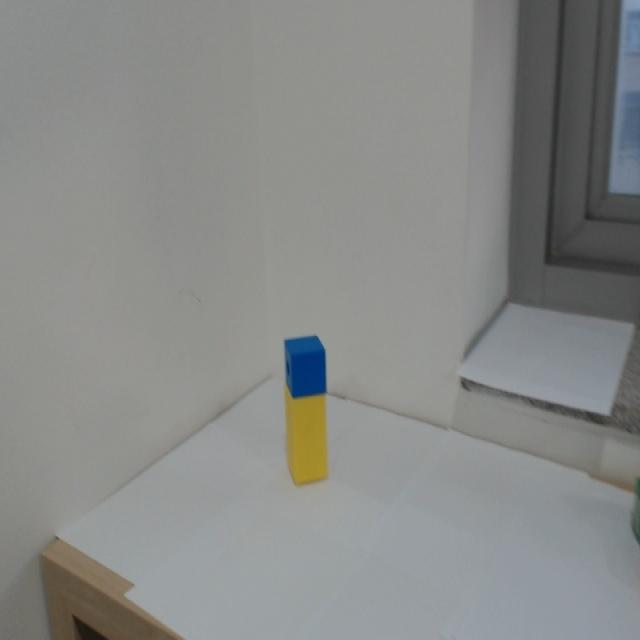cube: (284, 334, 326, 399)
